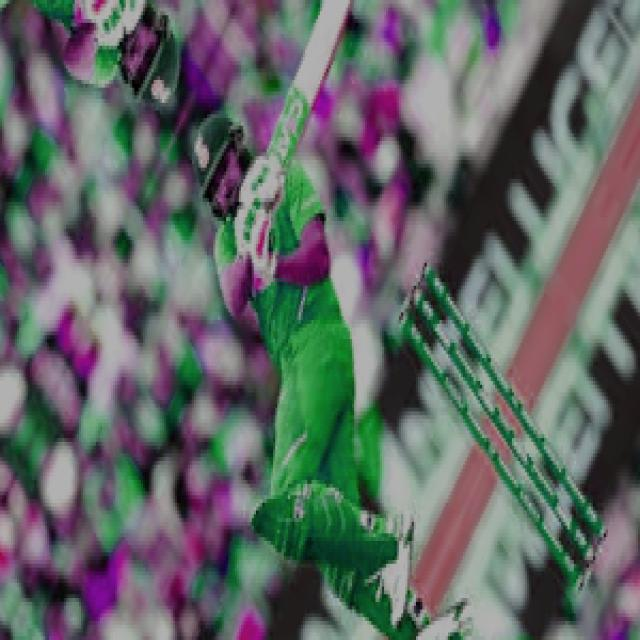toe: (318, 0, 356, 27)
